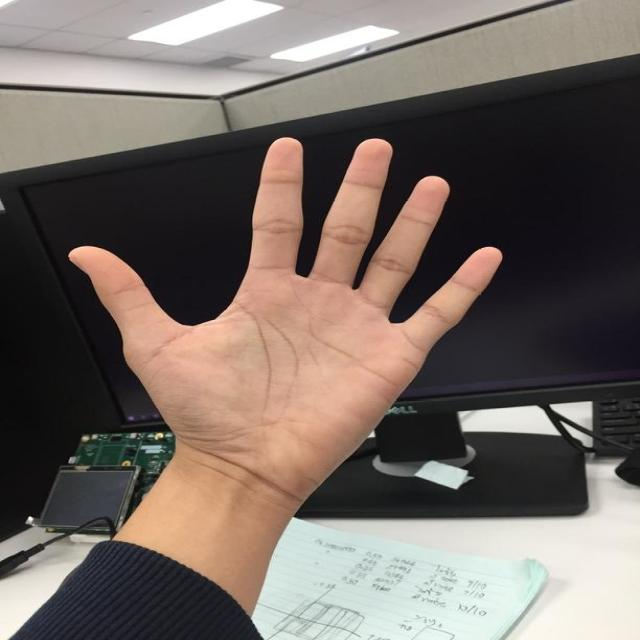hand: (65, 133, 504, 501)
